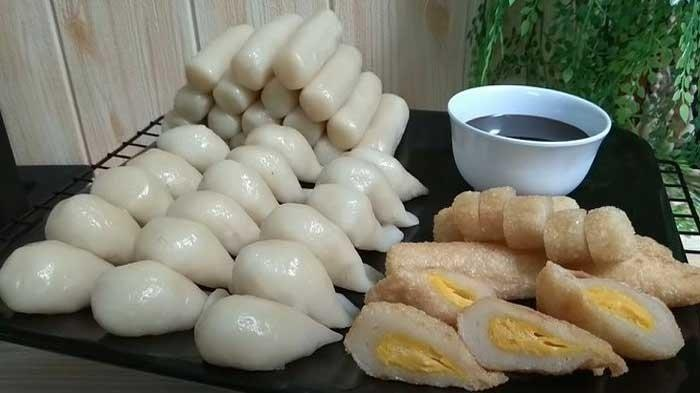pempek: (344, 186, 700, 389)
